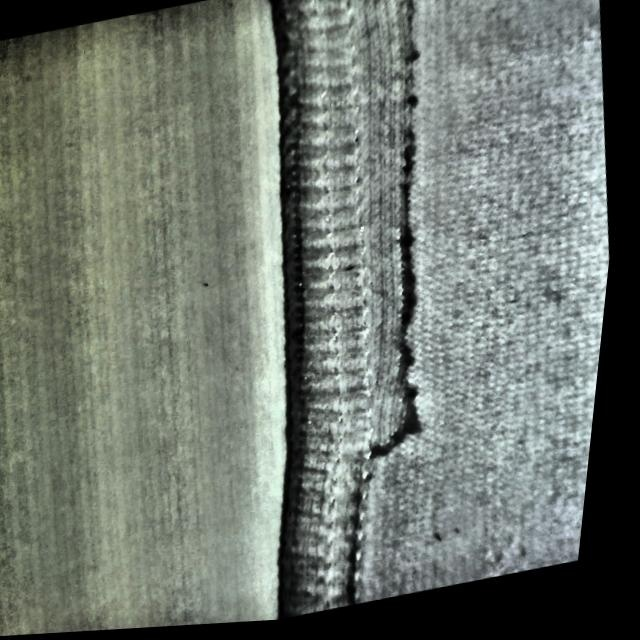seam: (215, 2, 522, 483)
